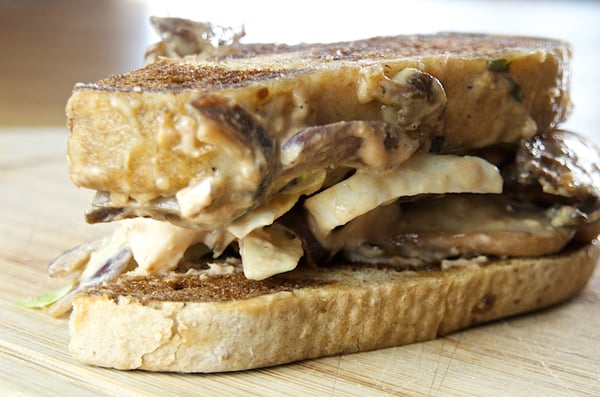soup: (46, 37, 592, 376)
